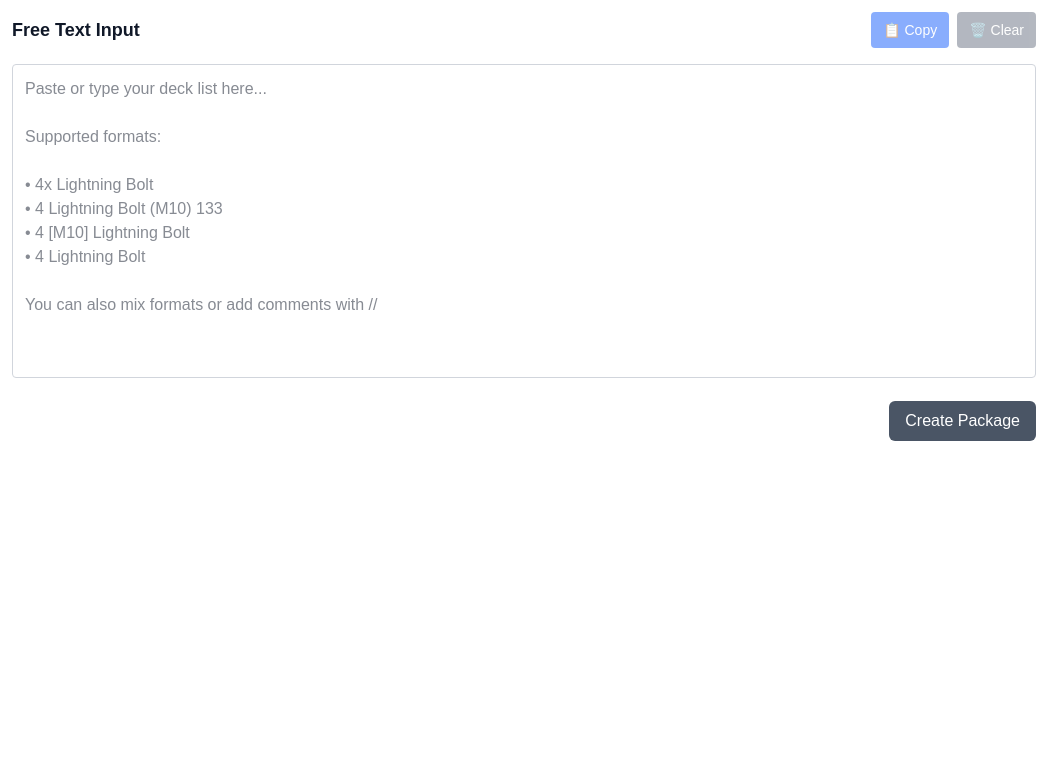
it: FreeTextInput › copies deck list to clipboard with selected format
Step 1. Replace the text in the text box with placeholder "Paste or type your deck list here" with "4x Lightning Bolt" → (524, 221), box x1=12 y1=64 x2=1036 y2=378
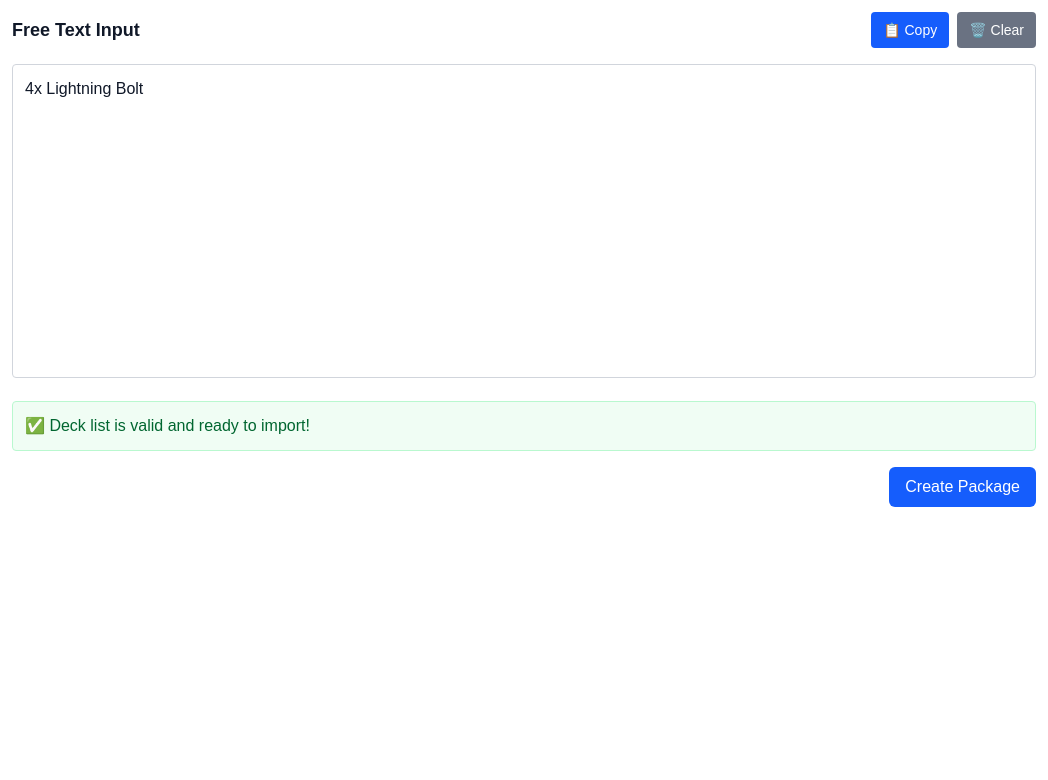
Expected: the text "✅ Deck list is valid and ready to import!" is shown, x1=12 y1=401 x2=1036 y2=451
Step 2. Click the button "📋 Copy" → (910, 30), box x1=871 y1=12 x2=949 y2=48
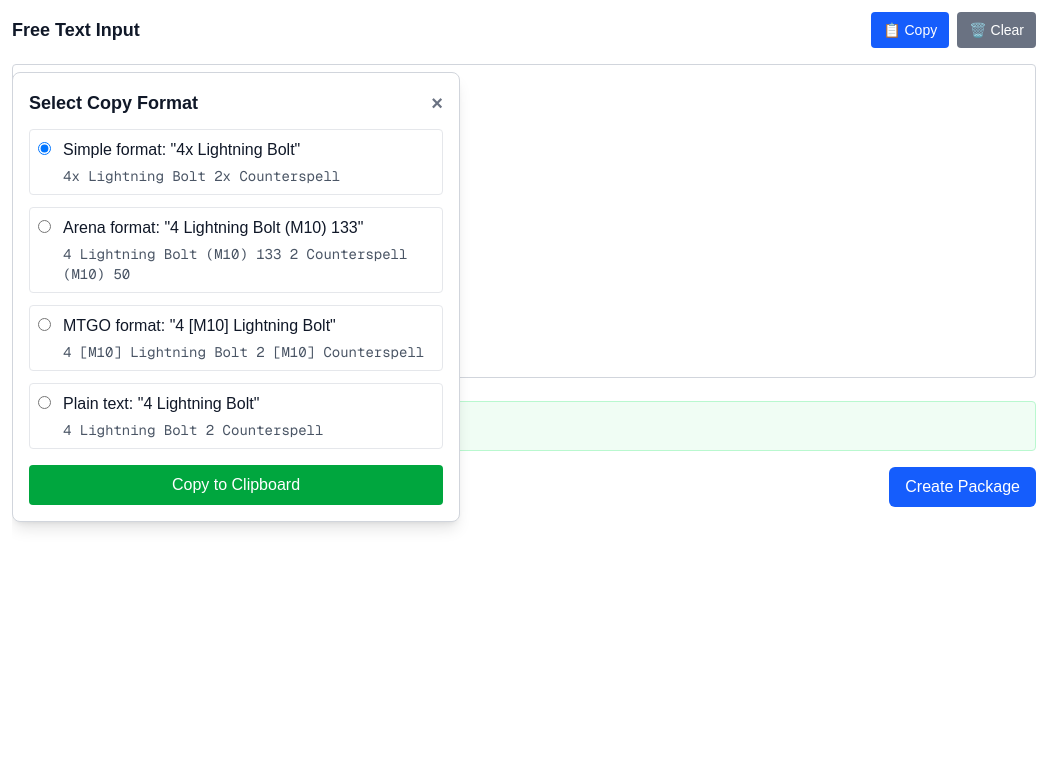
Step 3. Click the button "Copy to Clipboard" → (236, 485), box x1=29 y1=465 x2=443 y2=505
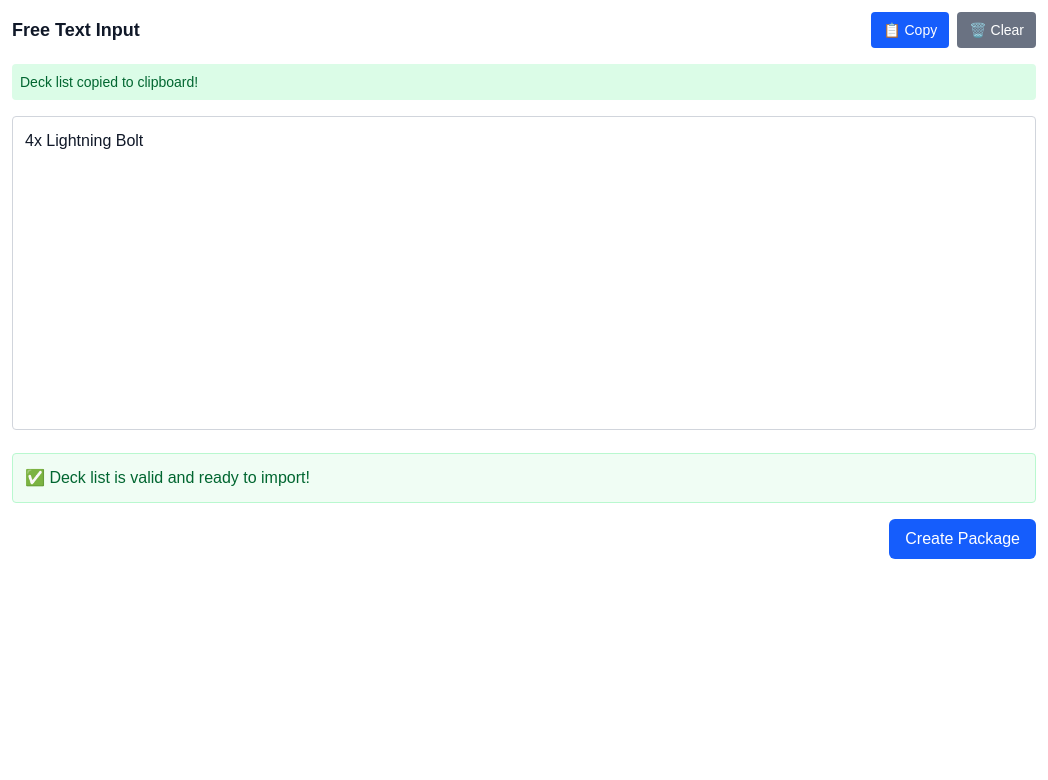
Expected: the text "Deck list copied to clipboard!" is shown, x1=12 y1=64 x2=1036 y2=100
